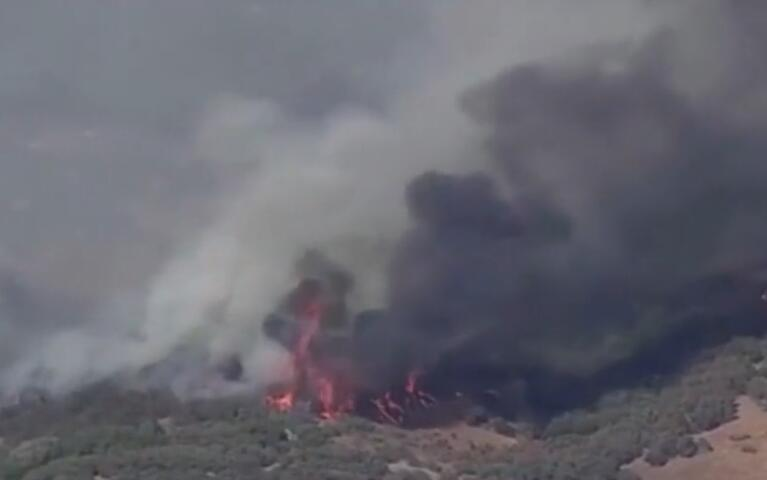fire: (265, 297, 430, 424)
smoke: (0, 1, 765, 408)
